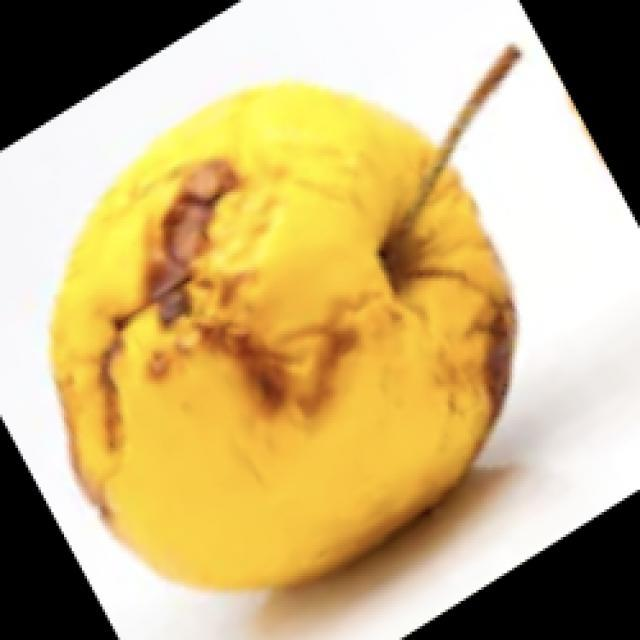Rotten: (43, 83, 517, 597)
